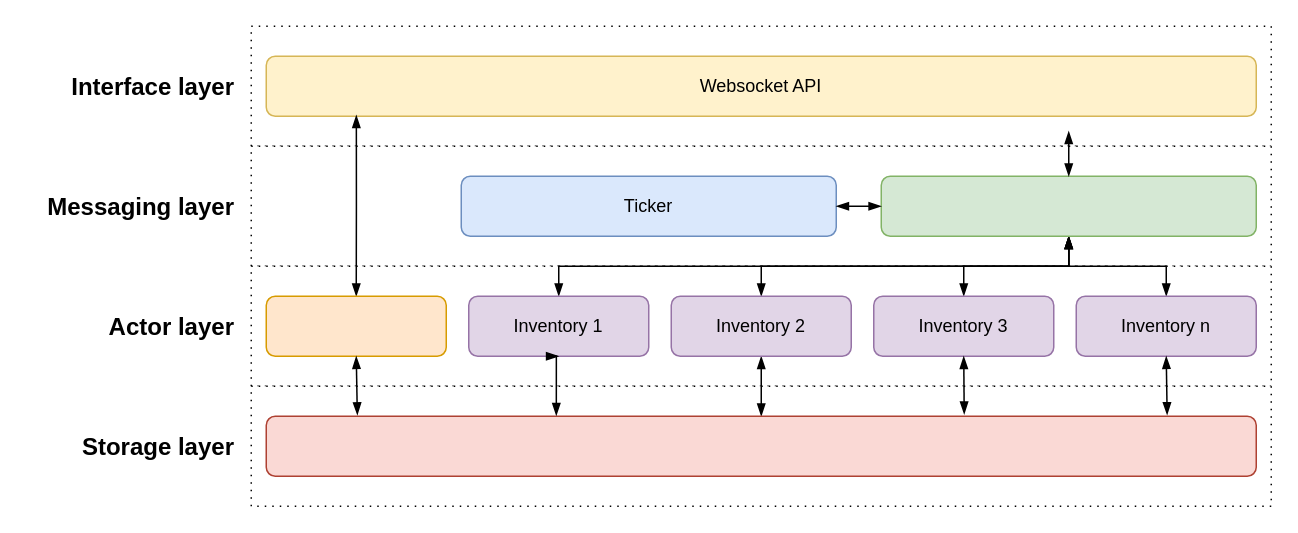
The diagram is 1298 pixels wide and 533 high, and some of its shapes have lost their labels. Here are the shapes that lost their labels. From the top down, the centre of each, then its label:
At [1068,205]: "Broker".
At [355,325]: "Storage".
At [760,445]: "Database".
